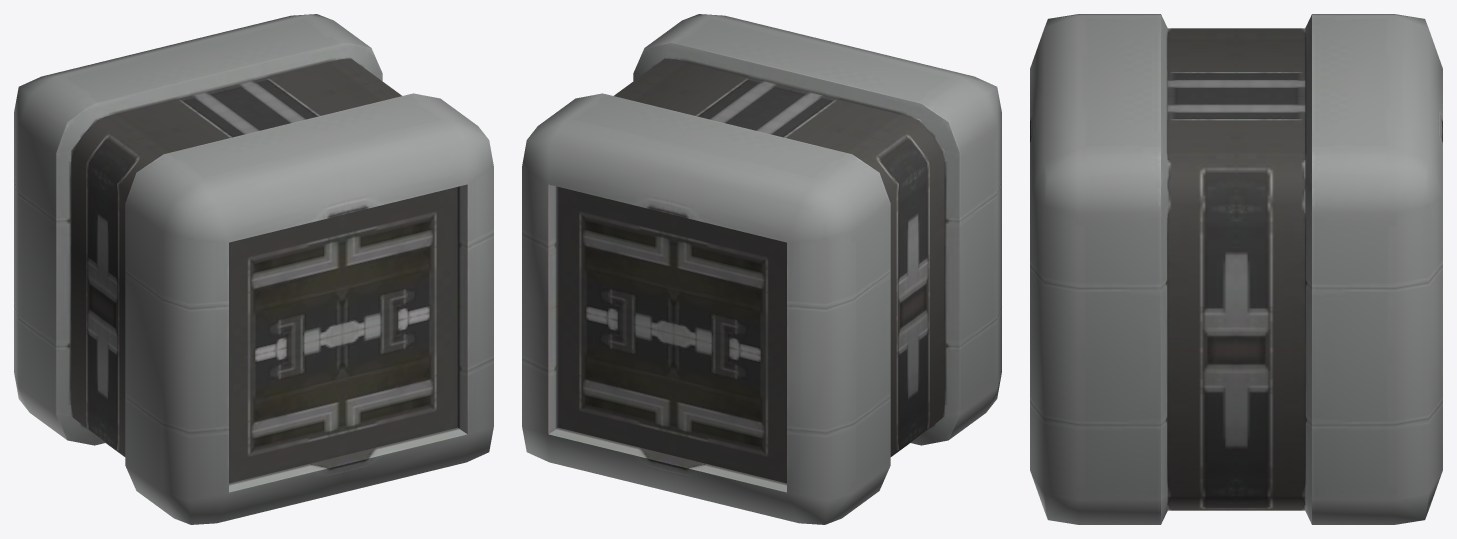
Rendered from Part - box4-cDVEr9Vw.glb.
3 renders of one model, left to right at view 1: azimuth 30°, elevation 25°; view 2: azimuth 150°, elevation 25°; view 3: azimuth 270°, elevation 25°, orthographic. The views are drawn at different scales.
Visible parts, largest first — view 1: box4; view 2: box4; view 3: box4.
Part boxes in pixels (bbox=[...]): box4: bbox=[14, 14, 493, 524]; box4: bbox=[522, 14, 1001, 524]; box4: bbox=[1030, 14, 1442, 524].
Bounding box in the file's own units: 1 × 1 × 1.
Materials: 1 (1 with a texture image).
